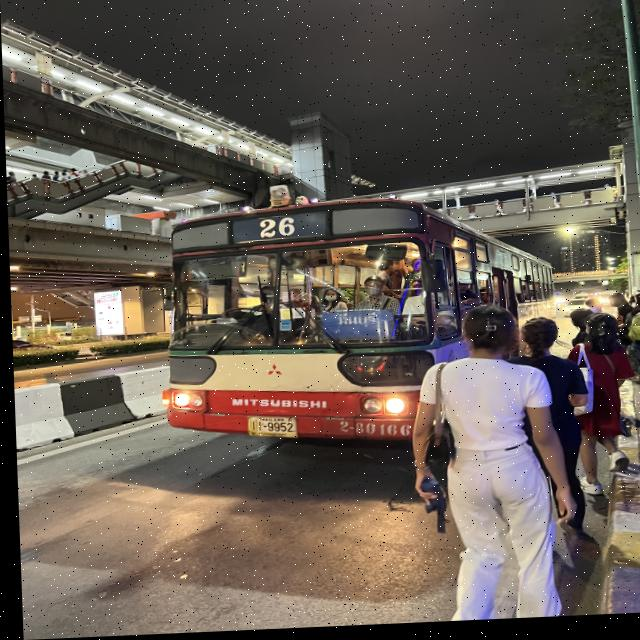BMTA-bus: (159, 201, 549, 447)
Bus Line Number: (247, 214, 308, 242)
Bus Side Number: (333, 417, 409, 447)
Destination Sign: (319, 312, 392, 344)
